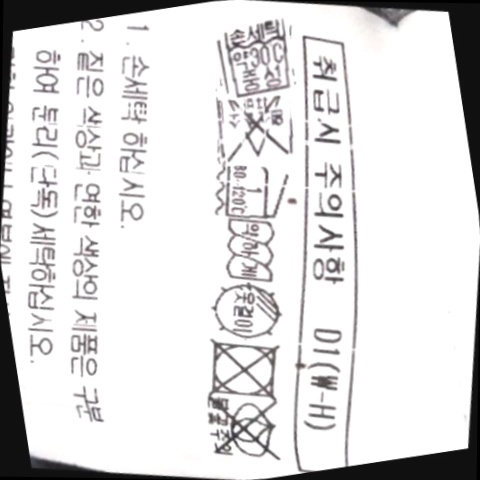DN_tumble_dry: (192, 326, 292, 411)
hand_wash: (209, 14, 304, 103)
iron_low: (212, 154, 293, 229)
line_dry_in_shade: (201, 273, 293, 348)
wring: (214, 212, 285, 291)
